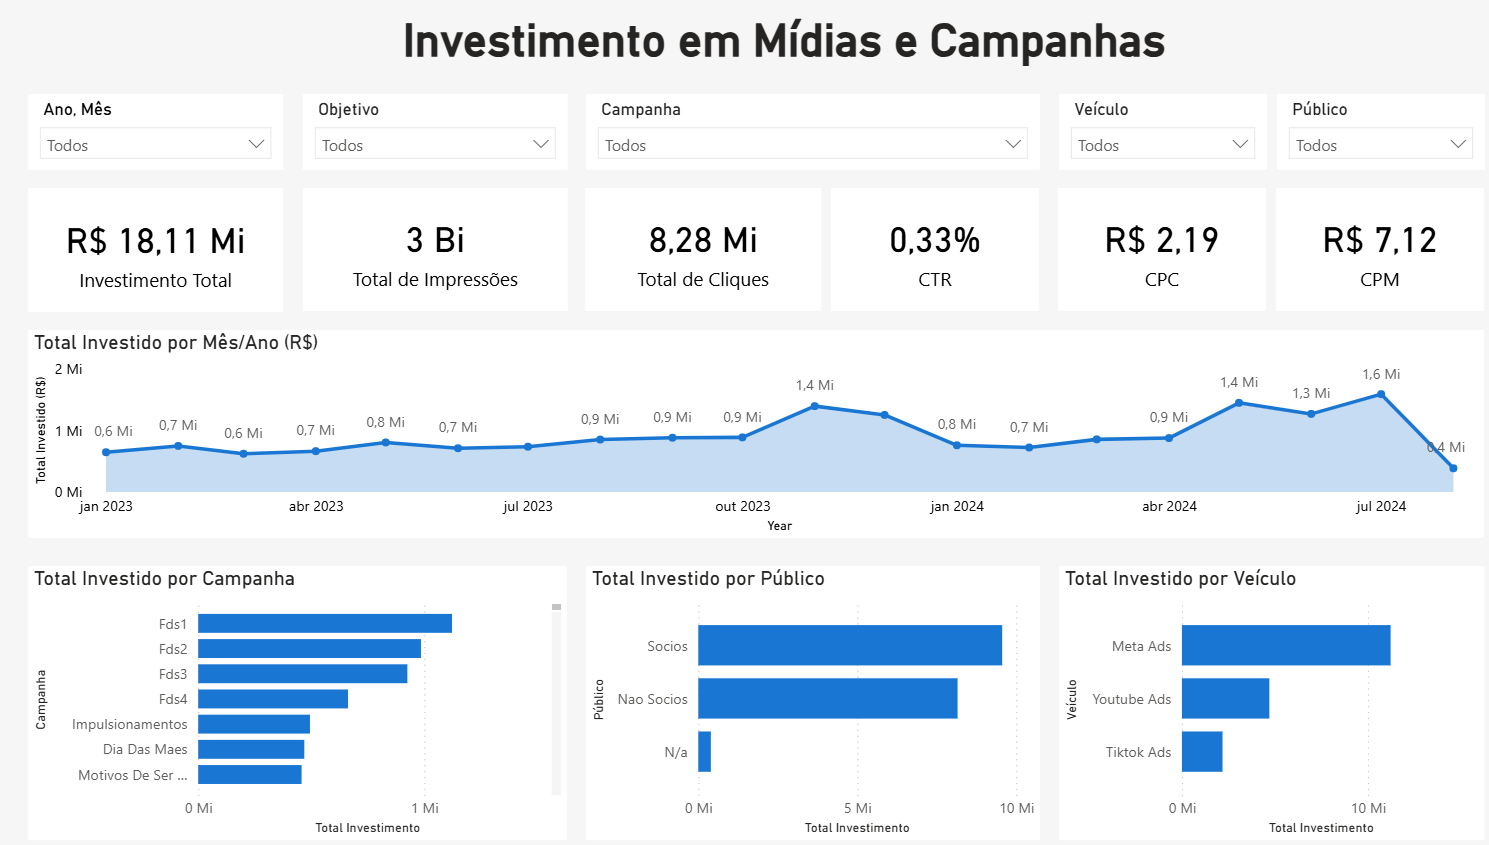

The dashboard page shown, as its layout file describes it:
{"tool":"powerbi","page":{"name":"KPIs","canvas":[1280,720],"ordinal":0},"visuals":[{"type":"card","fields":{"Values":["Sum(BASE DE PACING_v2 csv xls - BASE DE PACING_v2 csv xls.Soma de Investimento)"]},"box":[24,160,216,105],"z":0},{"type":"slicer","fields":{"Values":["BASE DE PACING_v2 csv xls - BASE DE PACING_v2 csv xls.Data.Variation.Date Hierarchy.Year","BASE DE PACING_v2 csv xls - BASE DE PACING_v2 csv xls.Data.Variation.Date Hierarchy.Month"]},"box":[24,80,216,64],"z":1000},{"type":"card","fields":{"Values":["Sum(BASE DE PACING_v2 csv xls - BASE DE PACING_v2 csv xls.Soma de Impressoes)"]},"box":[256,160,224,104],"z":2000},{"type":"slicer","fields":{"Values":["BASE DE PACING_v2 csv xls - BASE DE PACING_v2 csv xls.Objetivo"]},"box":[256,80,224,64],"z":3000},{"type":"slicer","fields":{"Values":["BASE DE PACING_v2 csv xls - BASE DE PACING_v2 csv xls.Campanha"]},"box":[496,80,384,64],"z":4000},{"type":"slicer","fields":{"Values":["BASE DE PACING_v2 csv xls - BASE DE PACING_v2 csv xls.Veiculo"]},"box":[896,80,176,64],"z":5000},{"type":"slicer","fields":{"Values":["BASE DE PACING_v2 csv xls - BASE DE PACING_v2 csv xls.Publico"]},"box":[1080,80,176,64],"z":6000},{"type":"card","fields":{"Values":["Sum(BASE DE PACING_v2 csv xls - BASE DE PACING_v2 csv xls.Soma de Cliques)"]},"box":[495.2,160,200,104],"z":7000},{"type":"card","fields":{"Values":["BASE DE PACING_v2 csv xls - BASE DE PACING_v2 csv xls.CTR"]},"box":[703.2,160,176,104],"z":8000},{"type":"card","fields":{"Values":["BASE DE PACING_v2 csv xls - BASE DE PACING_v2 csv xls.CPC"]},"box":[895.1,160,176,104],"z":9000},{"type":"card","fields":{"Values":["BASE DE PACING_v2 csv xls - BASE DE PACING_v2 csv xls.CPM"]},"box":[1079.9,160,176,104],"z":10000},{"type":"barChart","title":"Total Investido por Campanha","fields":{"Category":["BASE DE PACING_v2 csv xls - BASE DE PACING_v2 csv xls.Campanha"],"Y":["BASE DE PACING_v2 csv xls - BASE DE PACING_v2 csv xls.Total Investimento"]},"box":[24,480,456,232],"z":11000},{"type":"barChart","title":"Total Investido por Público","fields":{"Category":["BASE DE PACING_v2 csv xls - BASE DE PACING_v2 csv xls.Publico"],"Y":["BASE DE PACING_v2 csv xls - BASE DE PACING_v2 csv xls.Total Investimento"]},"box":[496,480,384,232],"z":12000},{"type":"barChart","title":"Total Investido por Veículo","fields":{"Category":["BASE DE PACING_v2 csv xls - BASE DE PACING_v2 csv xls.Veiculo"],"Y":["BASE DE PACING_v2 csv xls - BASE DE PACING_v2 csv xls.Total Investimento"]},"box":[896,480,360,232],"z":13000},{"type":"lineChart","title":"Total Investido por Mês/Ano (R$)","fields":{"Category":["BASE DE PACING_v2 csv xls - BASE DE PACING_v2 csv xls.Data.Variation.Date Hierarchy.Year","BASE DE PACING_v2 csv xls - BASE DE PACING_v2 csv xls.Data.Variation.Date Hierarchy.Month"],"Y":["BASE DE PACING_v2 csv xls - BASE DE PACING_v2 csv xls.Total Investimento"]},"box":[24,280,1232,176],"z":14000},{"type":"textbox","box":[184,8,960,56],"z":15000}]}

Visuals, with their boxes in screenshot pixels (x1, y1, x2, y2), scaled from the page's 1280x720 canvas onto the 1489x845 screenshot:
card - Sum(BASE DE PACING_v2 csv xls - BASE DE PACING_v2 csv xls.Soma de Investimento): left=28, top=188, right=279, bottom=311
slicer - BASE DE PACING_v2 csv xls - BASE DE PACING_v2 csv xls.Data.Variation.Date Hierarchy.Year x BASE DE PACING_v2 csv xls - BASE DE PACING_v2 csv xls.Data.Variation.Date Hierarchy.Month: left=28, top=94, right=279, bottom=169
card - Sum(BASE DE PACING_v2 csv xls - BASE DE PACING_v2 csv xls.Soma de Impressoes): left=298, top=188, right=558, bottom=310
slicer - BASE DE PACING_v2 csv xls - BASE DE PACING_v2 csv xls.Objetivo: left=298, top=94, right=558, bottom=169
slicer - BASE DE PACING_v2 csv xls - BASE DE PACING_v2 csv xls.Campanha: left=577, top=94, right=1024, bottom=169
slicer - BASE DE PACING_v2 csv xls - BASE DE PACING_v2 csv xls.Veiculo: left=1042, top=94, right=1247, bottom=169
slicer - BASE DE PACING_v2 csv xls - BASE DE PACING_v2 csv xls.Publico: left=1256, top=94, right=1461, bottom=169
card - Sum(BASE DE PACING_v2 csv xls - BASE DE PACING_v2 csv xls.Soma de Cliques): left=576, top=188, right=809, bottom=310
card - BASE DE PACING_v2 csv xls - BASE DE PACING_v2 csv xls.CTR: left=818, top=188, right=1023, bottom=310
card - BASE DE PACING_v2 csv xls - BASE DE PACING_v2 csv xls.CPC: left=1041, top=188, right=1246, bottom=310
card - BASE DE PACING_v2 csv xls - BASE DE PACING_v2 csv xls.CPM: left=1256, top=188, right=1461, bottom=310
"Total Investido por Campanha" barChart: left=28, top=563, right=558, bottom=836
"Total Investido por Público" barChart: left=577, top=563, right=1024, bottom=836
"Total Investido por Veículo" barChart: left=1042, top=563, right=1461, bottom=836
"Total Investido por Mês/Ano (R$)" lineChart: left=28, top=329, right=1461, bottom=535
textbox: left=214, top=9, right=1331, bottom=75
